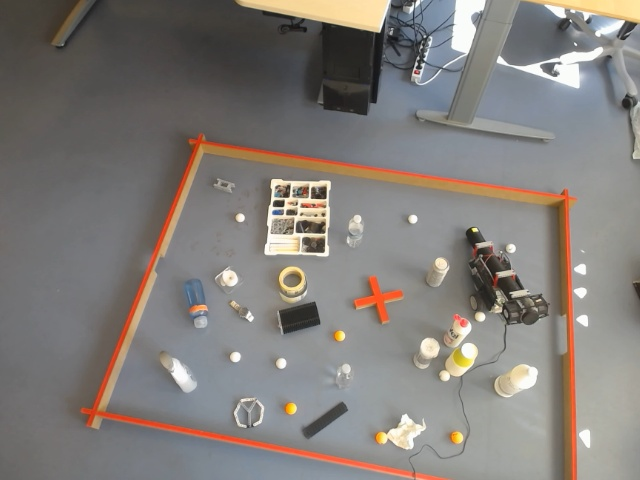orange: (450, 430, 465, 444), (283, 402, 297, 415), (374, 431, 387, 444), (333, 330, 346, 342)
robot: (457, 228, 559, 328)
white: (420, 337, 440, 361), (461, 341, 478, 361), (579, 428, 591, 448), (575, 286, 587, 299), (575, 263, 587, 276), (438, 370, 450, 382), (476, 310, 486, 322), (470, 295, 477, 310)
